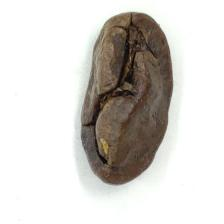NG: (82, 15, 153, 170)
